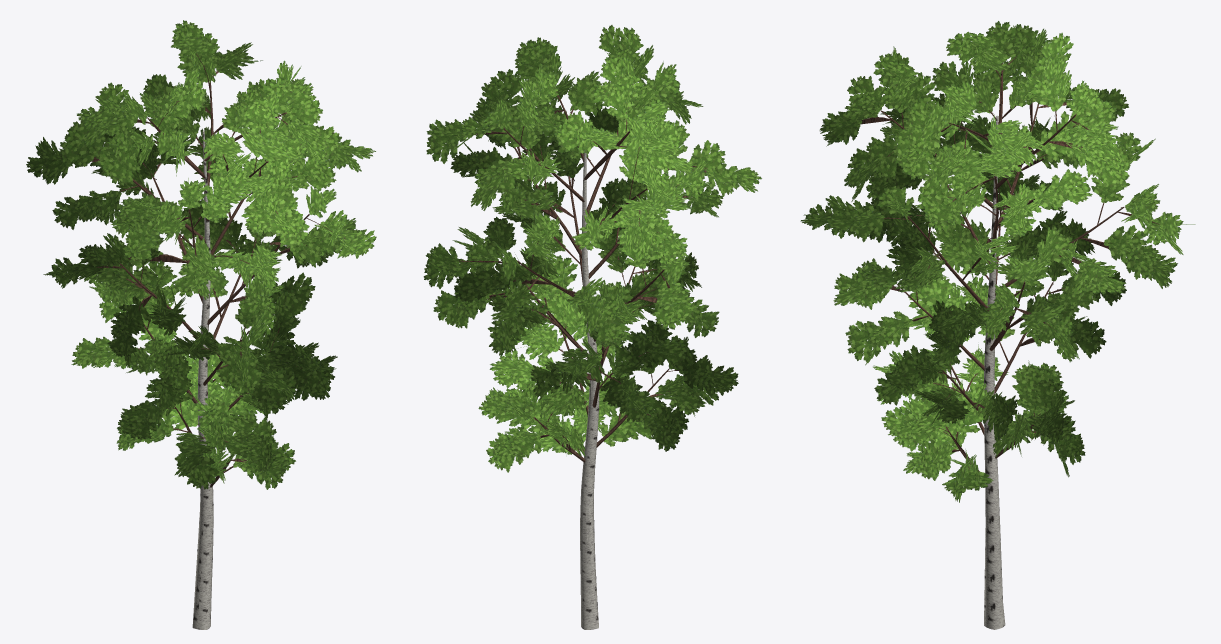
Rendered from birch.glb.
3 views of the same model, side by side, from view 1: azimuth 30°, elevation 25°; view 2: azimuth 150°, elevation 25°; view 3: azimuth 270°, elevation 25° (orthographic). The views are drawn at different scales.
Visible parts, largest first — view 1: Leaves, Leaves_far, Trunk, Trunk_far; view 2: Leaves, Leaves_far, Trunk, Trunk_far; view 3: Leaves, Leaves_far, Trunk, Trunk_far.
Boxes of the visible parts, x1,y1,x2,y2 form: Leaves: (26,20,376,489); Leaves_far: (59,37,372,465); Trunk: (94,57,332,629); Trunk_far: (91,71,306,626); Leaves: (423,25,761,472); Leaves_far: (429,44,738,451); Trunk: (462,84,707,629); Trunk_far: (463,105,706,629); Leaves: (800,21,1195,502); Leaves_far: (805,25,1183,480); Trunk: (863,56,1157,629); Trunk_far: (859,59,1158,628).
Bounding box in the file's own units: 7.6 × 14.5 × 8.96.
Materials: 3 (3 with a texture image).
